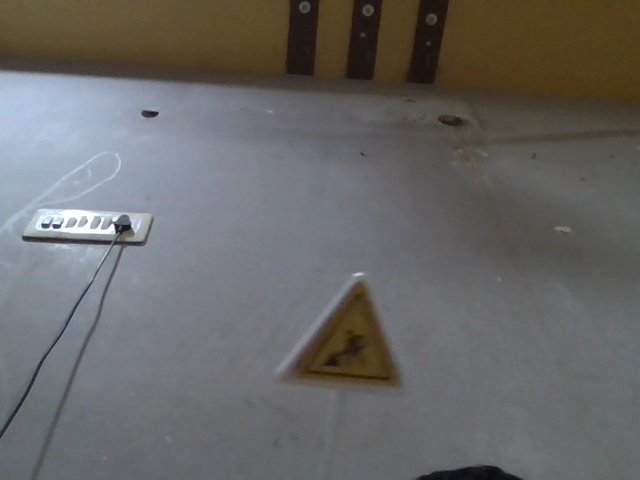workinprogress: (227, 264, 396, 404)
